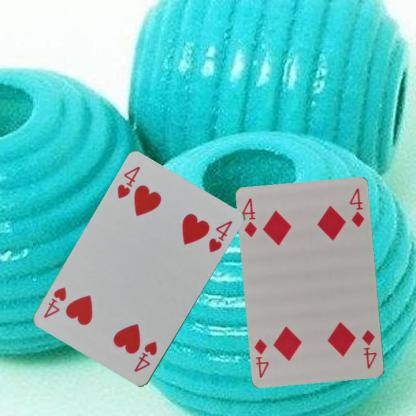4d: (240, 196, 259, 238), (360, 328, 378, 370)
4h: (131, 338, 159, 374), (115, 164, 142, 200)
